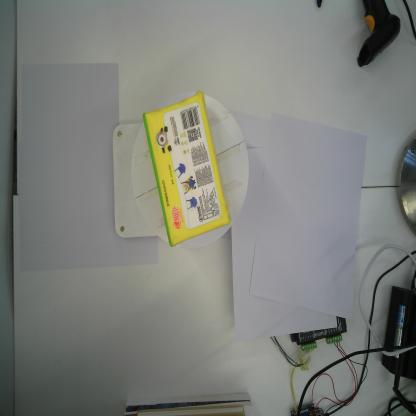Tissue: (143, 90, 231, 249)
